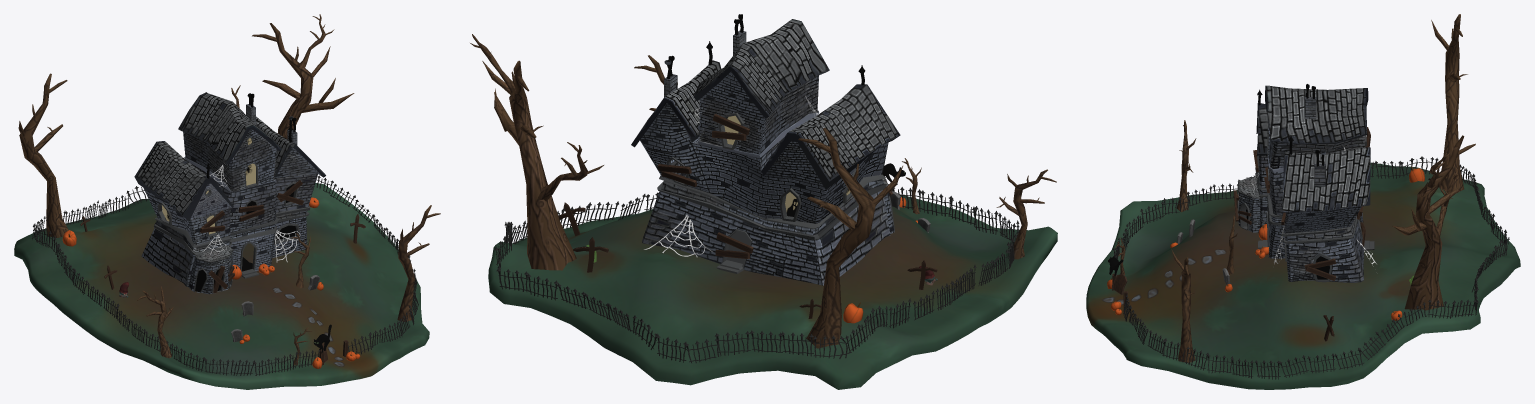
3 views of the same model, side by side, from view 1: azimuth 30°, elevation 25°; view 2: azimuth 150°, elevation 25°; view 3: azimuth 270°, elevation 25° (orthographic). The views are drawn at different scales.
Visible parts, largest first — view 1: Base, House, FenceIron, LargeTree, LargeTreeLeft, MediumTreeRight, MediumTreeLeft; view 2: Base, House, FenceIron, LargeTree, LargeTreeLeft, MediumTreeLeft, GraveMarkers, FrontWeb.004; view 3: Base, House, FenceIron, LargeTree, LargeTreeLeft, MediumTreeRight, MediumTreeLeft, Chimney _House_0.
Part boxes in pixels (bbox=[...]): Base: bbox=[14, 183, 429, 389]; House: bbox=[134, 92, 325, 294]; FenceIron: bbox=[32, 175, 418, 375]; LargeTree: bbox=[231, 14, 354, 138]; LargeTreeLeft: bbox=[18, 73, 68, 237]; MediumTreeRight: bbox=[397, 205, 440, 321]; MediumTreeLeft: bbox=[137, 286, 173, 358]; Base: bbox=[488, 195, 1057, 389]; House: bbox=[631, 19, 900, 285]; FenceIron: bbox=[495, 187, 1019, 363]; LargeTree: bbox=[470, 34, 603, 270]; LargeTreeLeft: bbox=[798, 128, 902, 348]; MediumTreeLeft: bbox=[996, 169, 1056, 259]; GraveMarkers: bbox=[558, 202, 937, 318]; FrontWeb.004: bbox=[644, 214, 712, 257]; Base: bbox=[1086, 162, 1520, 389]; House: bbox=[1237, 85, 1374, 282]; FenceIron: bbox=[1113, 156, 1509, 379]; LargeTree: bbox=[1392, 135, 1475, 310]; LargeTreeLeft: bbox=[1431, 14, 1467, 193]; MediumTreeRight: bbox=[1171, 249, 1195, 362]; MediumTreeLeft: bbox=[1176, 120, 1196, 212]; Chimney _House_0: bbox=[1304, 97, 1325, 186].
Size of what is drawn, in the model's own units: 15.06 by 9.17 by 15.31.
14 materials, 9 textured.
